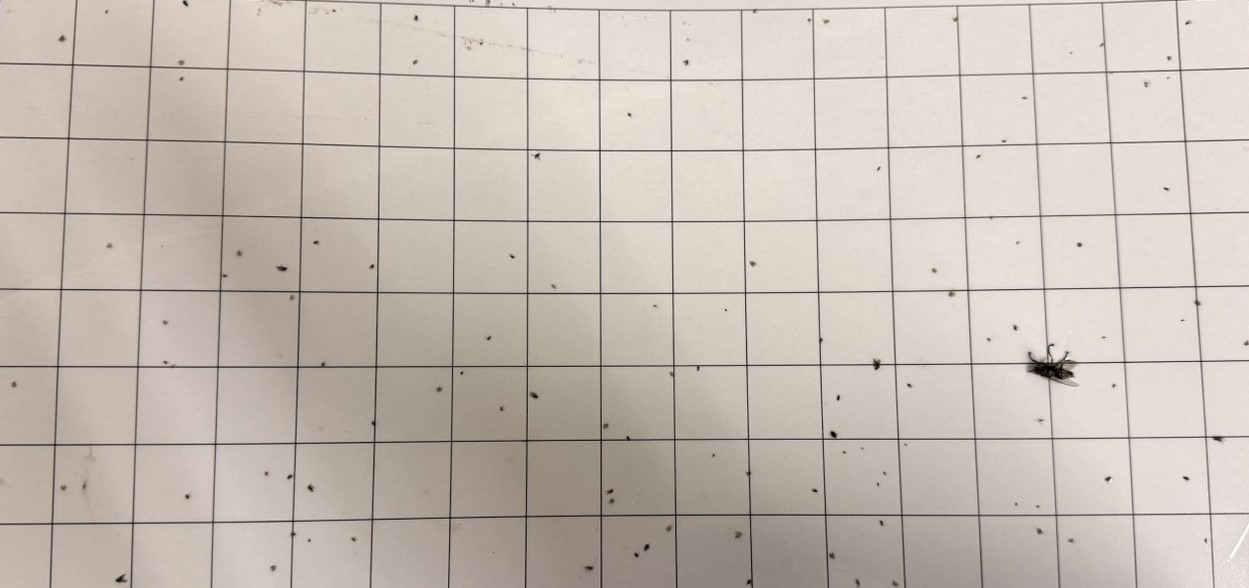test: (1024, 342, 1082, 390), (114, 572, 128, 585), (872, 357, 882, 372), (1211, 435, 1225, 444), (947, 288, 957, 300), (733, 529, 743, 541), (1193, 298, 1203, 309), (1181, 474, 1191, 485), (829, 428, 840, 438), (531, 390, 541, 401), (532, 152, 543, 162), (276, 264, 289, 272), (748, 259, 758, 269), (745, 577, 755, 587), (306, 484, 316, 494), (104, 241, 114, 251), (1104, 474, 1113, 485), (890, 579, 901, 588), (606, 487, 617, 496), (269, 563, 278, 574), (11, 378, 20, 389), (930, 266, 939, 276), (1036, 526, 1045, 536), (1067, 536, 1077, 545), (585, 564, 595, 573), (666, 524, 675, 534), (682, 58, 692, 67), (57, 34, 67, 43), (1011, 323, 1020, 332), (829, 551, 838, 560), (608, 496, 617, 505), (508, 252, 517, 261), (550, 282, 559, 291), (285, 472, 294, 481), (59, 484, 68, 493), (822, 17, 831, 26), (834, 393, 842, 403), (854, 577, 862, 587), (601, 421, 611, 429), (370, 418, 378, 428), (236, 249, 244, 259), (1162, 185, 1171, 193), (906, 381, 914, 390), (811, 486, 819, 495), (668, 369, 676, 378), (642, 543, 651, 551), (319, 360, 327, 369), (312, 238, 320, 247), (161, 319, 170, 327), (184, 492, 192, 501), (1243, 338, 1249, 350), (1184, 19, 1193, 27), (1142, 79, 1150, 88), (410, 58, 419, 66), (694, 363, 701, 373), (1036, 417, 1046, 424), (745, 469, 753, 477), (485, 335, 493, 343), (435, 385, 443, 393), (350, 535, 358, 543), (1165, 54, 1173, 62), (1098, 40, 1106, 48), (178, 58, 186, 66), (178, 75, 186, 83), (1076, 240, 1083, 249), (985, 335, 992, 344), (878, 518, 885, 527), (817, 335, 824, 344), (625, 434, 632, 443), (81, 482, 88, 491), (626, 111, 633, 120), (412, 13, 419, 22), (182, 1, 191, 8), (1203, 536, 1209, 546), (1110, 382, 1117, 390), (974, 153, 982, 160), (882, 469, 889, 477), (651, 302, 658, 310), (634, 551, 641, 559), (288, 294, 295, 302), (221, 272, 229, 279), (170, 363, 178, 370), (1000, 137, 1007, 145), (1020, 94, 1028, 101), (952, 14, 959, 22), (876, 164, 882, 173), (1100, 334, 1107, 341), (875, 481, 882, 488), (859, 445, 866, 452), (710, 452, 717, 459), (723, 306, 730, 313), (459, 369, 466, 376), (263, 469, 270, 476), (290, 530, 297, 537), (751, 8, 758, 15), (1034, 502, 1040, 510), (369, 262, 375, 270), (162, 359, 170, 365), (1068, 49, 1074, 57), (806, 17, 814, 23), (477, 40, 485, 46), (1015, 239, 1021, 246), (988, 214, 994, 221), (498, 405, 505, 411), (306, 537, 313, 543), (1180, 317, 1187, 323), (1165, 75, 1172, 81), (104, 8, 110, 15), (1013, 501, 1019, 507), (331, 7, 337, 13), (902, 442, 909, 447), (841, 449, 848, 454)
